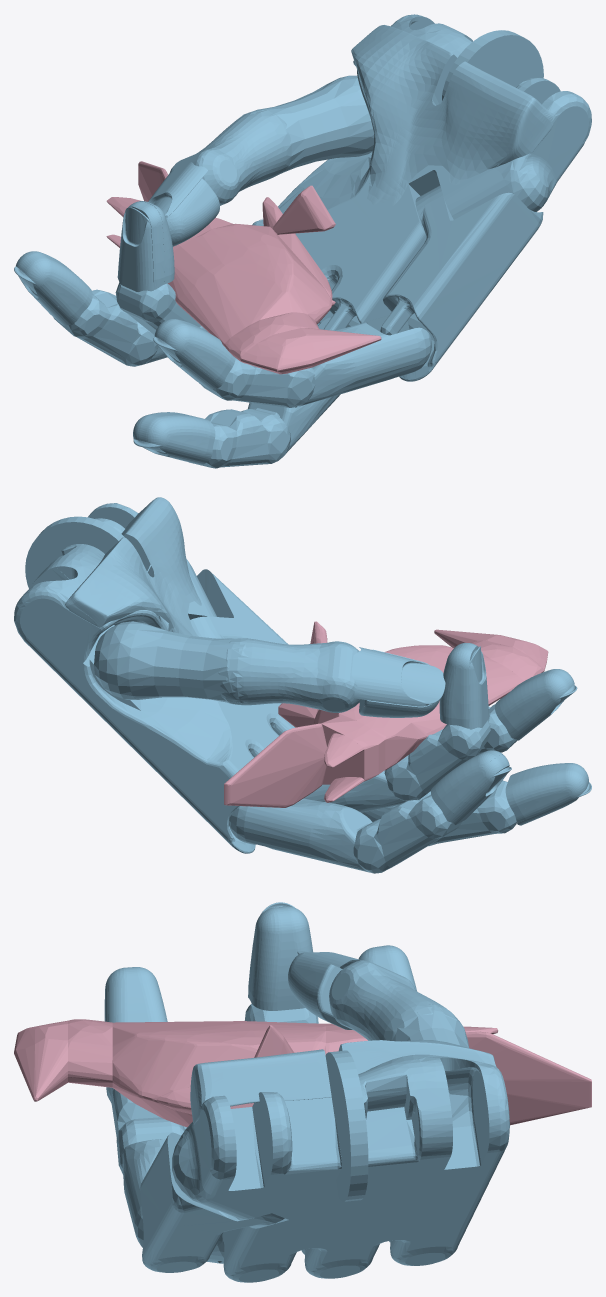
3 renders of one model, top to bottom at view 1: azimuth 30°, elevation 25°; view 2: azimuth 150°, elevation 25°; view 3: azimuth 270°, elevation 25°, orthographic. The views are drawn at different scales.
Visible parts, largest first — view 1: hand_isaac_q, world; view 2: hand_isaac_q, world; view 3: hand_isaac_q, world.
Boxes of the visible parts, x1,y1,x2,y2 form: hand_isaac_q: (14, 14, 591, 468); world: (106, 161, 381, 374); hand_isaac_q: (14, 497, 591, 873); world: (224, 621, 548, 807); hand_isaac_q: (104, 902, 509, 1282); world: (14, 1019, 591, 1127).
Size of the model in its own units: 0.1862 by 0.1067 by 0.1497.
